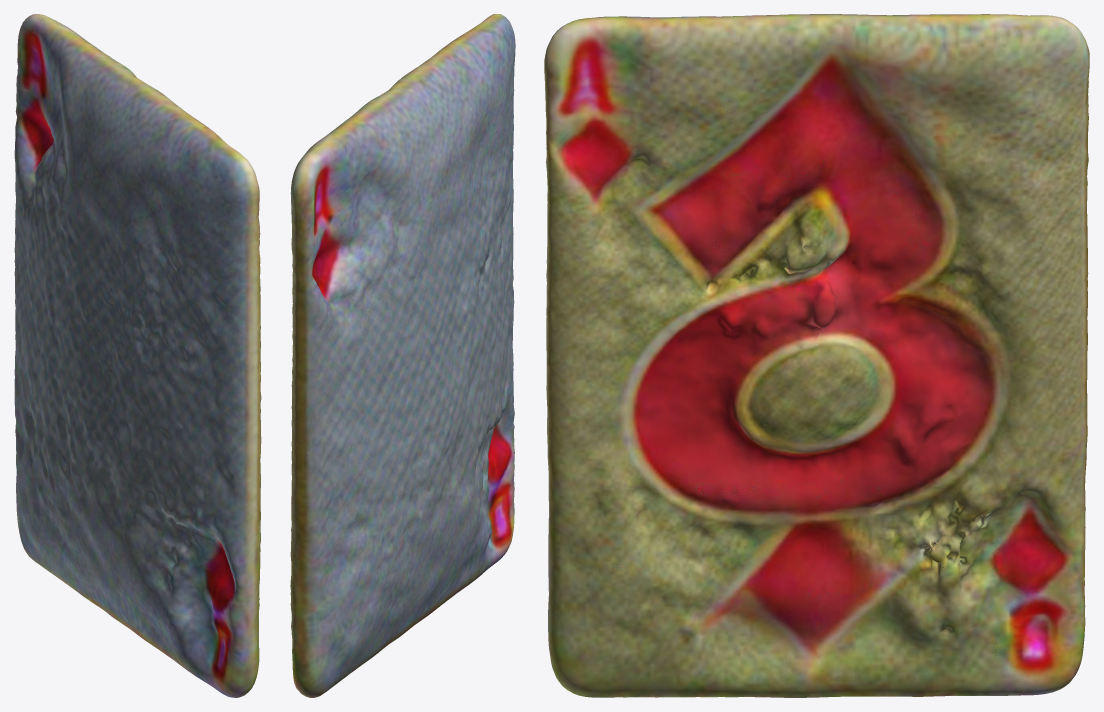
The model's file is card_17.glb.
3 renders of one model, left to right at view 1: azimuth 30°, elevation 25°; view 2: azimuth 150°, elevation 25°; view 3: azimuth 270°, elevation 25°, orthographic. The views are drawn at different scales.
Visible parts, largest first — view 1: Mesh1; view 2: Mesh1; view 3: Mesh1.
Part boxes in pixels (bbox=[...]): Mesh1: bbox=[14, 14, 261, 697]; Mesh1: bbox=[290, 14, 515, 697]; Mesh1: bbox=[544, 14, 1089, 697].
Size of the model in its own units: 0.1797 by 1.2 by 0.874.
Materials: 1 (1 with a texture image).
